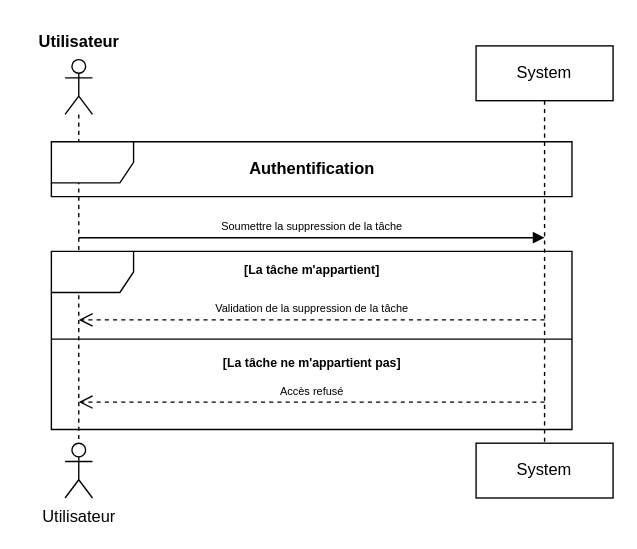
This 637x549 diagram has some shape labels left out. Each missing label, with the box of its shape:
alt: (50, 250, 572, 429)
frame: (50, 140, 572, 197)
